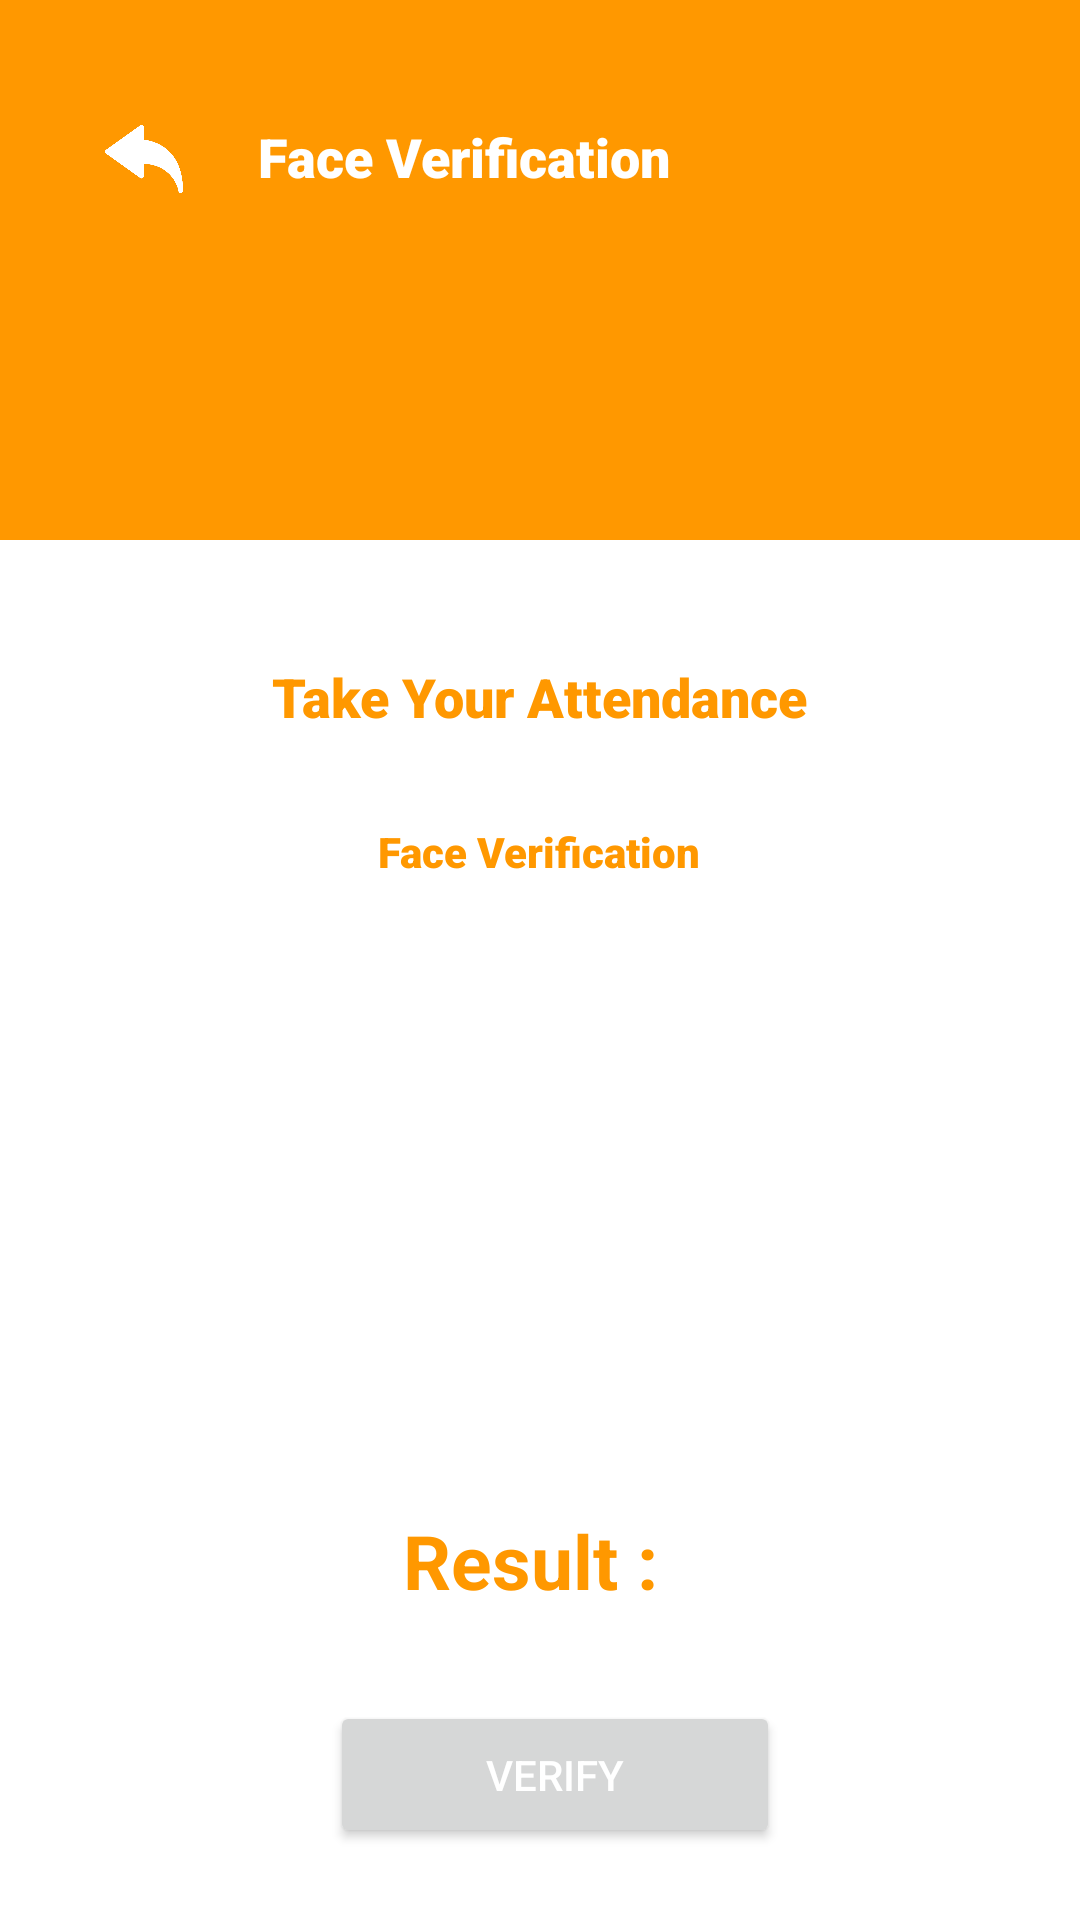

Named icons in this screenshot (1080px×1920px) and their centers, [x,y]:
back: [144,159]
